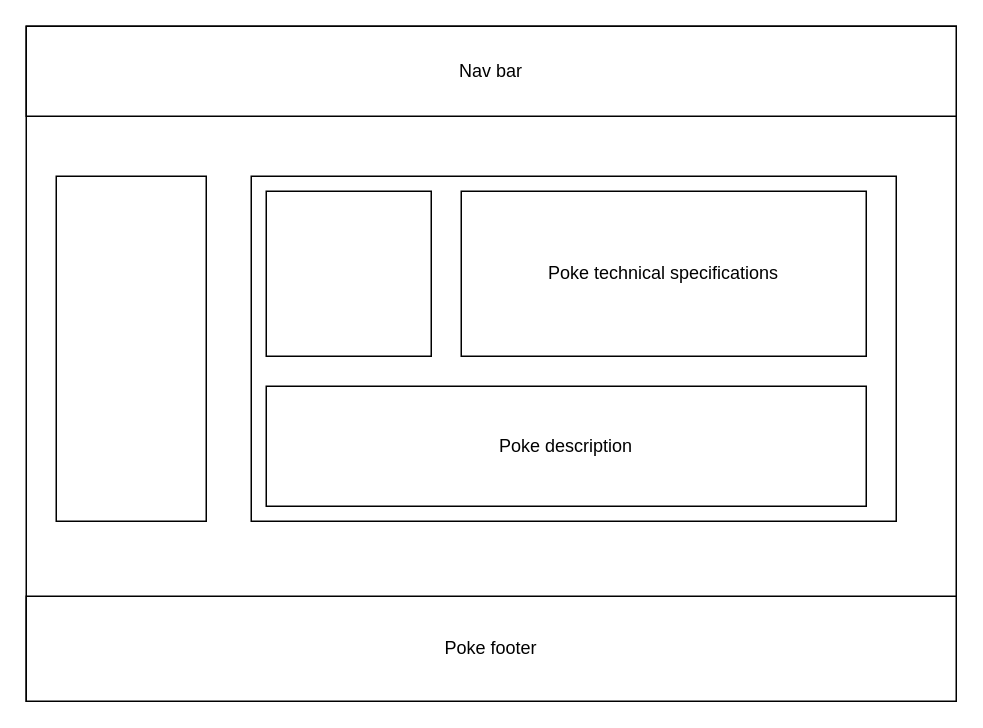
Some shapes in this 983 by 728 pixel diagram are drawn without their labels. The shapes that lost their labels are listed below. From the top down, each one's centre as x and y in pixels, then its label:
(348,273): Poke image
(130,348): PokeTree
